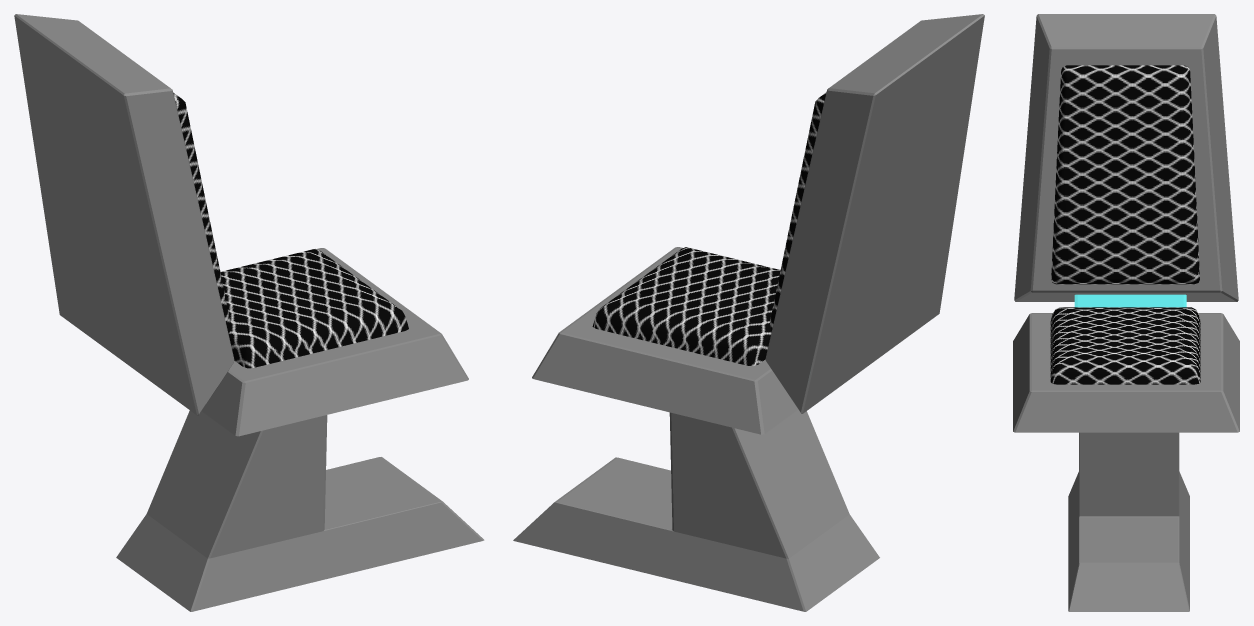
File: SM_Chair.fbx
3 views of the same model, side by side, from view 1: azimuth 30°, elevation 25°; view 2: azimuth 150°, elevation 25°; view 3: azimuth 270°, elevation 25° (orthographic). The views are drawn at different scales.
Parts seen in each view (by area): view 1: SM_Chair; view 2: SM_Chair; view 3: SM_Chair.
Part boxes in pixels (bbox=[...]): SM_Chair: bbox=[14, 14, 484, 611]; SM_Chair: bbox=[513, 14, 984, 611]; SM_Chair: bbox=[1013, 14, 1239, 611].
Size of the model in its own units: 98.15 by 62.54 by 136.
1 material, 1 textured.
